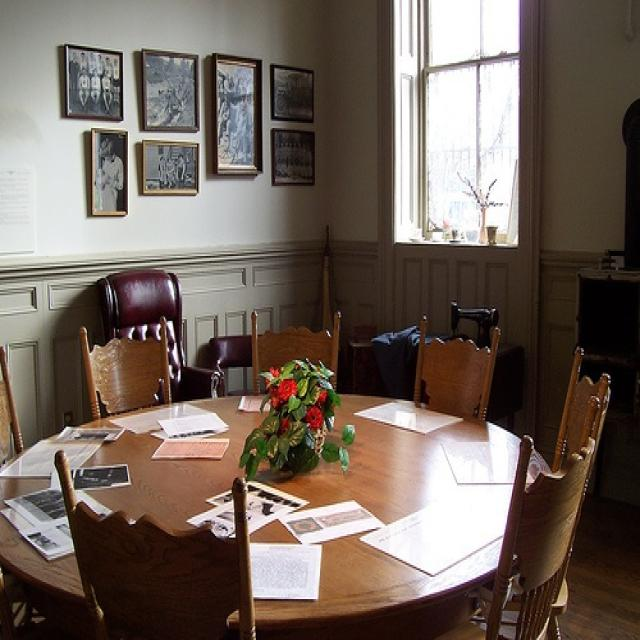chair: (52, 451, 256, 638), (487, 434, 588, 638), (69, 324, 182, 410), (243, 304, 346, 398), (414, 316, 499, 418), (556, 345, 616, 469)
pottedplant: (239, 362, 361, 486)
